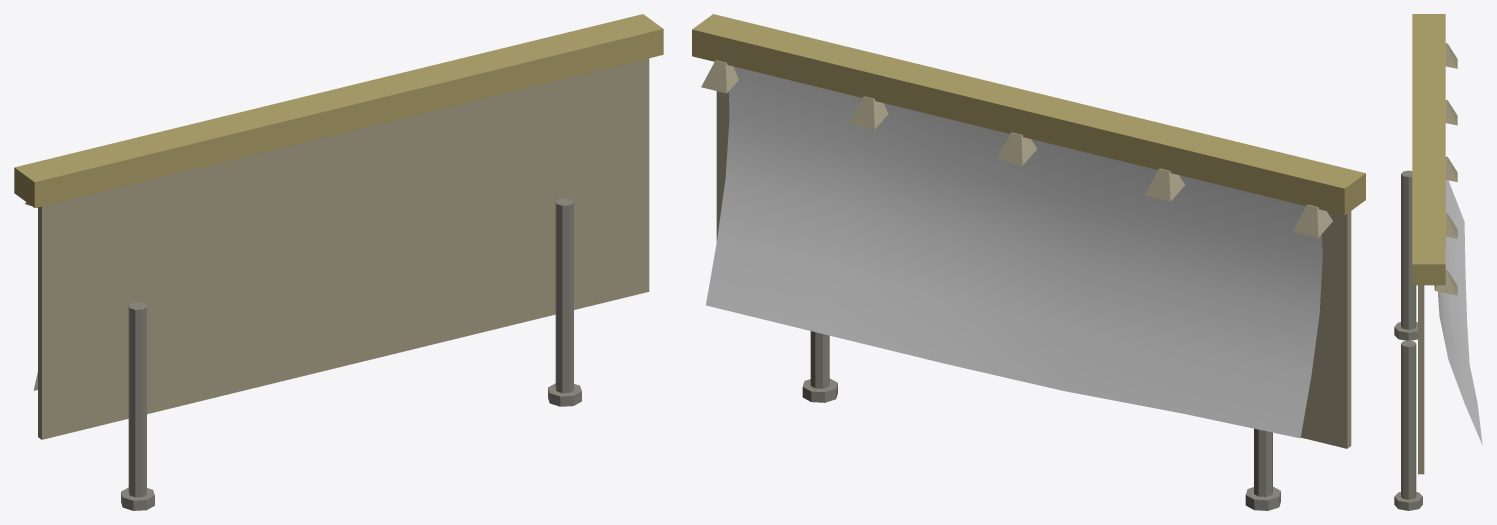
File: Panel.fbx
3 renders of one model, left to right at view 1: azimuth 30°, elevation 25°; view 2: azimuth 150°, elevation 25°; view 3: azimuth 270°, elevation 25°, orthographic. The views are drawn at different scales.
Visible parts, largest first — view 1: Panel; view 2: Panel; view 3: Panel.
Boxes of the visible parts, x1,y1,x2,y2 form: Panel: (14,14,663,510); Panel: (692,14,1365,510); Panel: (1394,14,1482,510).
Size of the model in its own units: 1416 by 741 by 211.
